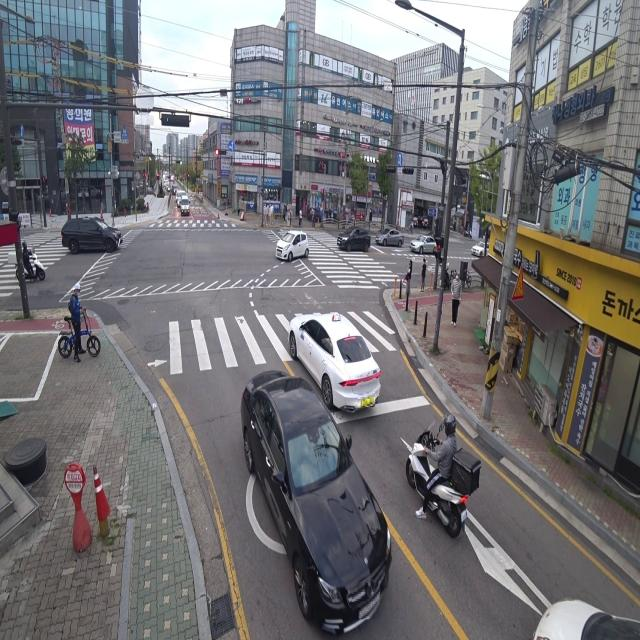Car: (227, 337, 397, 631), (283, 292, 383, 417), (516, 573, 640, 640), (60, 207, 125, 254), (270, 225, 311, 263), (334, 224, 372, 253), (374, 218, 406, 249), (408, 231, 439, 256), (470, 235, 488, 260), (181, 195, 191, 216), (177, 190, 186, 208)
Motorcycle: (400, 409, 479, 539), (17, 239, 49, 285)
